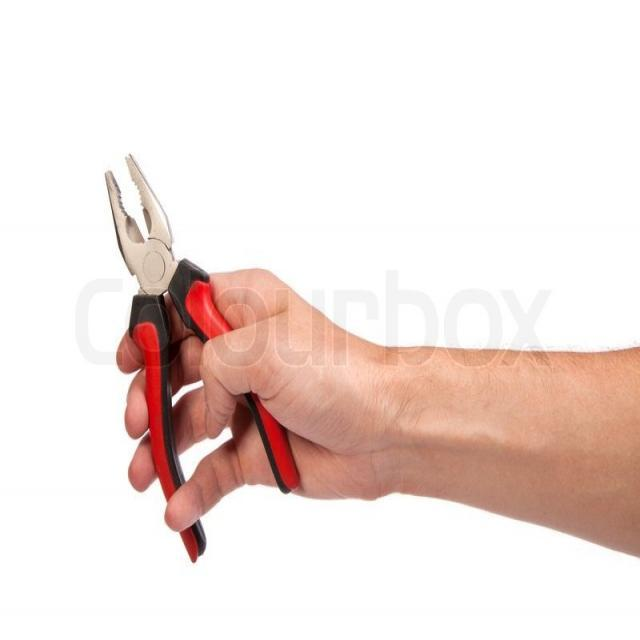pliers: (102, 147, 304, 568)
